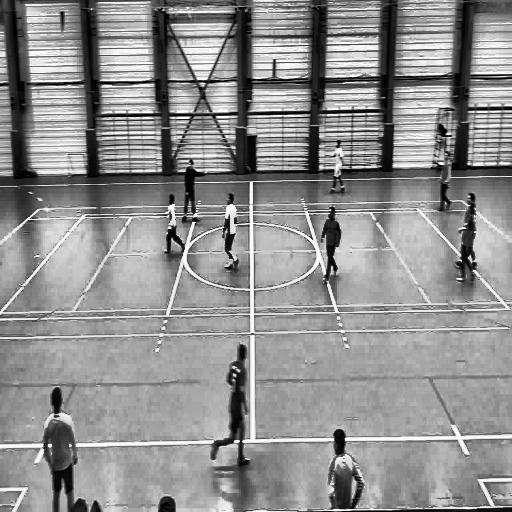player: (209, 340, 254, 468), (40, 384, 78, 512), (181, 155, 208, 224), (219, 188, 240, 276), (455, 188, 477, 272), (320, 205, 342, 287), (457, 205, 477, 287), (161, 191, 185, 257), (436, 148, 454, 216), (328, 137, 348, 197)
